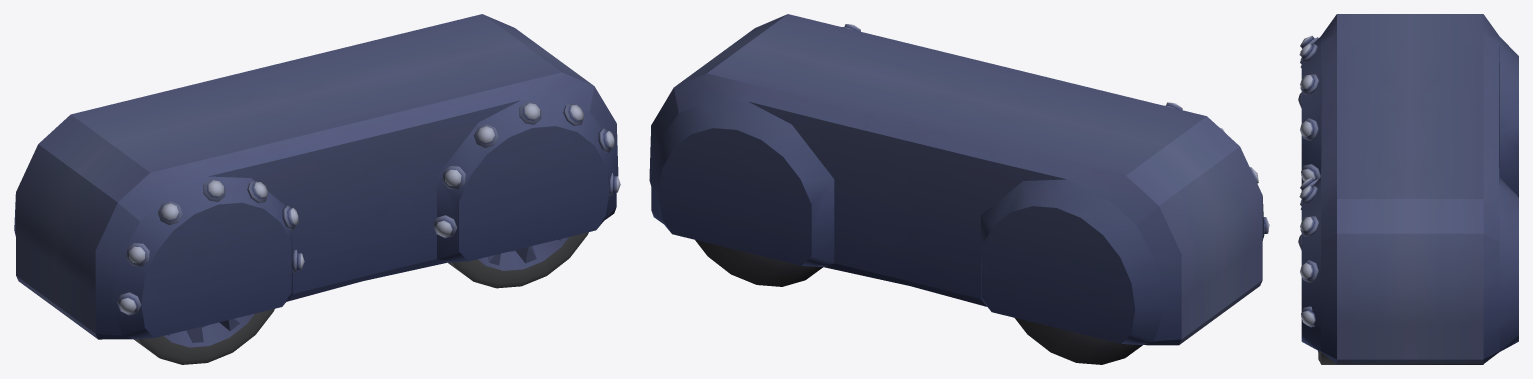
File: player_01.fbx
The picture shows the model from 3 angles, left to right: view 1: azimuth 30°, elevation 25°; view 2: azimuth 150°, elevation 25°; view 3: azimuth 270°, elevation 25°; orthographic projection. The views are drawn at different scales.
Visible parts, largest first — view 1: G_player1, wheel_lft, wheel_rght; view 2: G_player1, wheel_lft, wheel_rght; view 3: G_player1, wheel_rght.
Boxes of the visible parts, left/top/right/bottom form: G_player1: left=14, top=14, right=620, bottom=339; wheel_lft: left=134, top=309, right=274, bottom=364; wheel_rght: left=448, top=232, right=588, bottom=288; G_player1: left=649, top=14, right=1269, bottom=345; wheel_lft: left=1015, top=318, right=1142, bottom=364; wheel_rght: left=695, top=240, right=822, bottom=286; G_player1: left=1298, top=14, right=1518, bottom=364; wheel_rght: left=1318, top=351, right=1483, bottom=364.
Size of the model in its own units: 3.13 by 1.12 by 1.25.
1 material, 1 textured.
